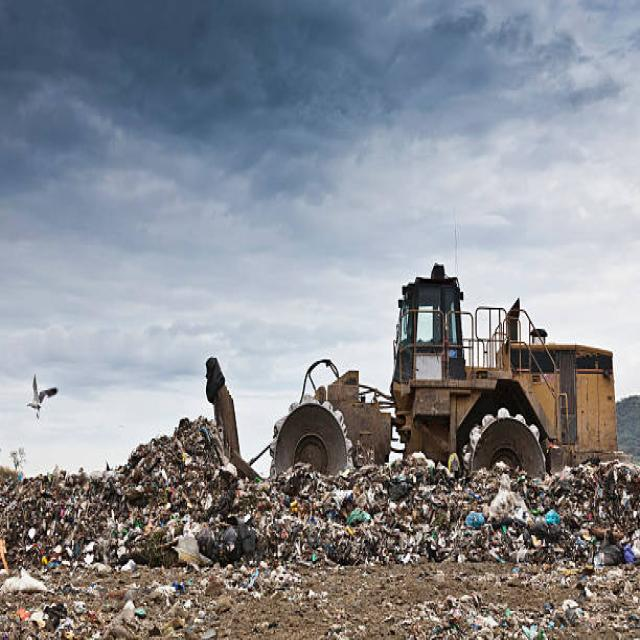trash: (14, 439, 618, 614)
